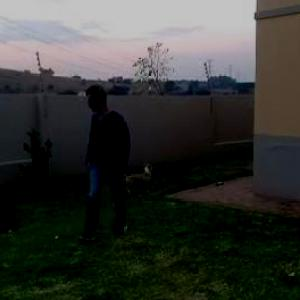follow: (85, 83, 134, 233)
